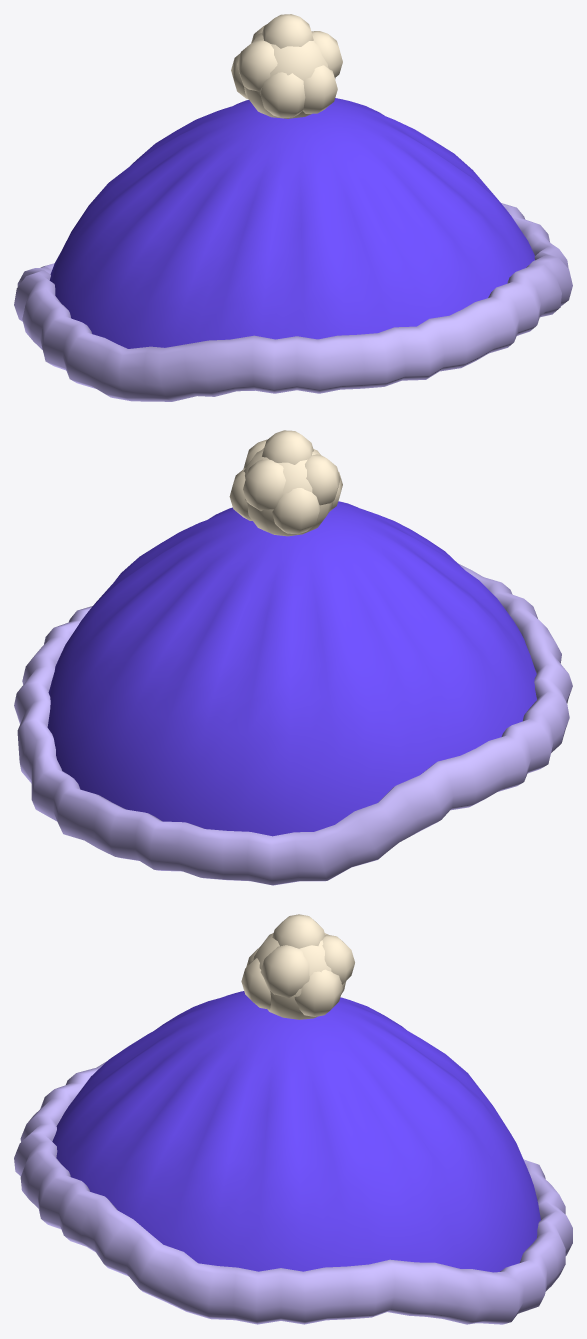
Rendered from hat-beanie.glb.
3 renders of one model, top to bottom at view 1: azimuth 30°, elevation 25°; view 2: azimuth 150°, elevation 25°; view 3: azimuth 270°, elevation 25°, orthographic.
Parts seen in each view (by area): view 1: hat-beanie-mesh; view 2: hat-beanie-mesh; view 3: hat-beanie-mesh.
Boxes of the visible parts, x1,y1,x2,y2 form: hat-beanie-mesh: (14, 14, 572, 401); hat-beanie-mesh: (14, 430, 572, 885); hat-beanie-mesh: (14, 914, 572, 1324).
Bounding box in the file's own units: 2.47 × 1.68 × 2.47.
